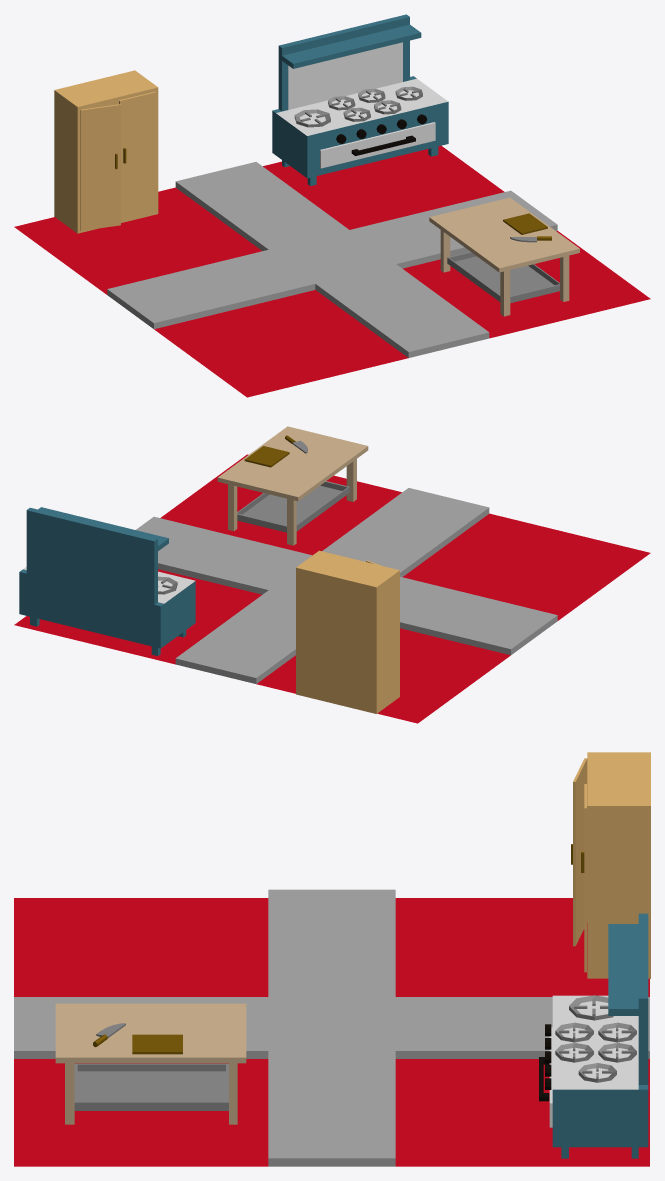
Rendered from Room 5 - Kitchen Draft - New.fbx.
The picture shows the model from 3 angles, top to bottom: view 1: azimuth 30°, elevation 25°; view 2: azimuth 150°, elevation 25°; view 3: azimuth 270°, elevation 25°; orthographic projection. The views are drawn at different scales.
Visible parts, largest first — view 1: Floor, Body, Table, pCube1, pCube2, pCube3, Undertray, Cutting_Board; view 2: Floor, Body, pCube1, Table, Undertray, Cutting_Board; view 3: Floor, Body, pCube1, Table, Undertray, pCube2, Cutting_Board, pCube3.
Boxes of the visible parts, box(x1,y1,x2,y2) form: Floor: box(14, 145, 650, 397); Body: box(272, 14, 448, 186); Table: box(429, 197, 579, 316); pCube1: box(54, 70, 158, 233); pCube2: box(80, 104, 120, 230); pCube3: box(119, 91, 156, 220); Undertray: box(447, 251, 559, 303); Cutting_Board: box(503, 213, 547, 234); Floor: box(14, 454, 650, 723); Body: box(19, 507, 195, 655); pCube1: box(296, 550, 399, 713); Table: box(217, 426, 368, 545); Undertray: box(237, 481, 349, 532); Cutting_Board: box(244, 446, 289, 467); Floor: box(14, 889, 649, 1166); Body: box(539, 913, 648, 1158); pCube1: box(587, 752, 650, 978); Table: box(55, 1003, 246, 1124); Undertray: box(74, 1063, 228, 1110); pCube2: box(571, 758, 587, 946); Cutting_Board: box(132, 1034, 182, 1054); pCube3: box(581, 784, 586, 972).
Size of the model in its own units: 10 by 3.06 by 10.02.
